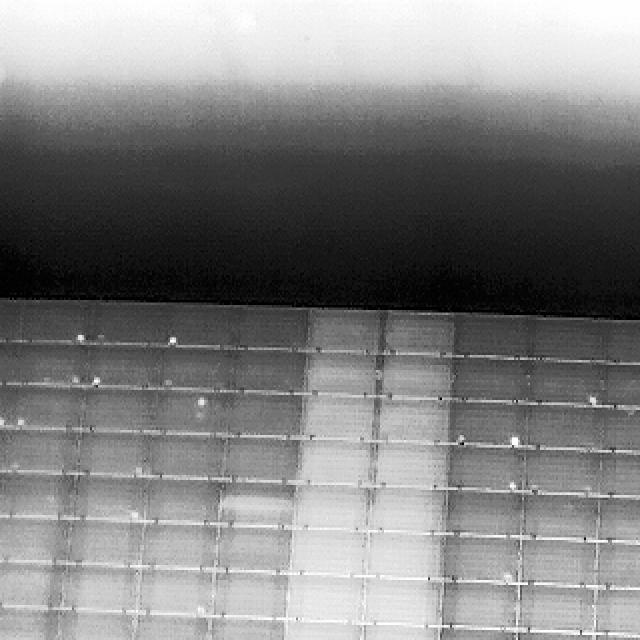Hotspots: (0, 410, 18, 430), (500, 570, 518, 590), (86, 369, 107, 385), (127, 505, 143, 526), (506, 430, 524, 446), (160, 332, 178, 348), (196, 396, 212, 414), (505, 474, 521, 491), (192, 599, 206, 618), (587, 391, 602, 408)
PV-modules: (522, 406, 608, 454), (87, 304, 178, 349), (0, 341, 86, 388), (520, 450, 602, 499), (222, 435, 304, 483), (143, 477, 223, 526), (60, 565, 141, 613), (450, 356, 531, 404), (2, 426, 83, 474), (143, 432, 227, 478), (439, 537, 519, 585), (288, 573, 366, 622), (3, 386, 86, 432), (440, 582, 519, 630), (222, 392, 304, 438), (444, 488, 524, 535), (64, 519, 142, 567), (138, 568, 216, 616), (0, 302, 85, 346), (293, 530, 369, 579), (449, 401, 529, 447), (524, 318, 607, 362), (296, 485, 372, 533), (1, 474, 80, 520), (372, 486, 446, 535), (364, 577, 438, 626), (523, 538, 598, 586), (366, 534, 441, 582), (299, 437, 374, 485), (216, 527, 291, 575), (528, 360, 606, 406), (220, 482, 298, 528), (138, 525, 217, 570), (88, 343, 167, 388), (521, 586, 595, 634), (524, 491, 601, 537), (450, 317, 530, 361), (232, 308, 312, 352), (230, 346, 306, 392), (212, 570, 288, 616), (449, 446, 525, 492), (309, 311, 384, 357), (378, 354, 451, 400), (75, 428, 144, 476), (85, 389, 155, 436), (375, 445, 448, 490), (308, 350, 379, 396), (2, 520, 70, 568), (304, 396, 378, 440), (72, 475, 146, 519), (380, 315, 452, 360), (375, 398, 447, 443), (148, 389, 216, 435), (165, 346, 234, 391), (173, 306, 240, 351), (0, 560, 60, 610), (54, 610, 136, 640), (594, 590, 640, 638), (594, 542, 640, 590), (596, 495, 640, 545), (132, 612, 210, 640), (598, 455, 640, 503), (208, 615, 286, 640), (0, 607, 56, 640), (280, 617, 360, 640), (602, 317, 640, 365), (604, 405, 640, 453), (602, 360, 640, 405), (360, 622, 438, 640), (438, 625, 516, 640), (516, 627, 594, 640), (590, 632, 640, 640)
